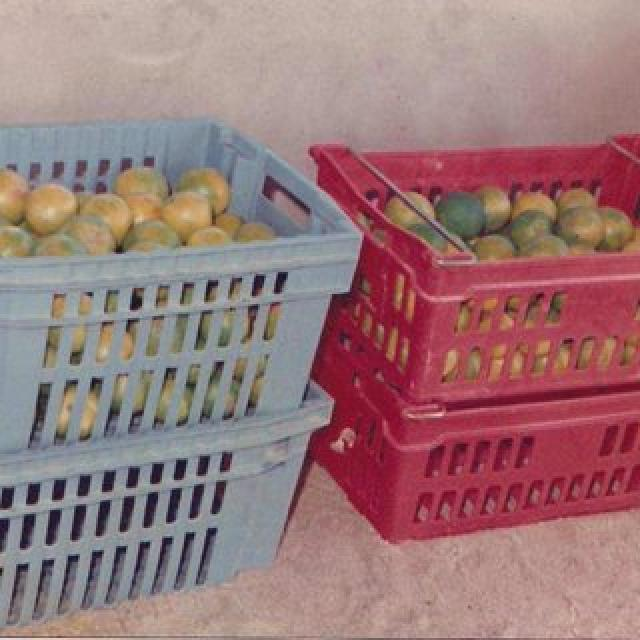basket: (0, 122, 362, 627), (366, 140, 640, 228)
